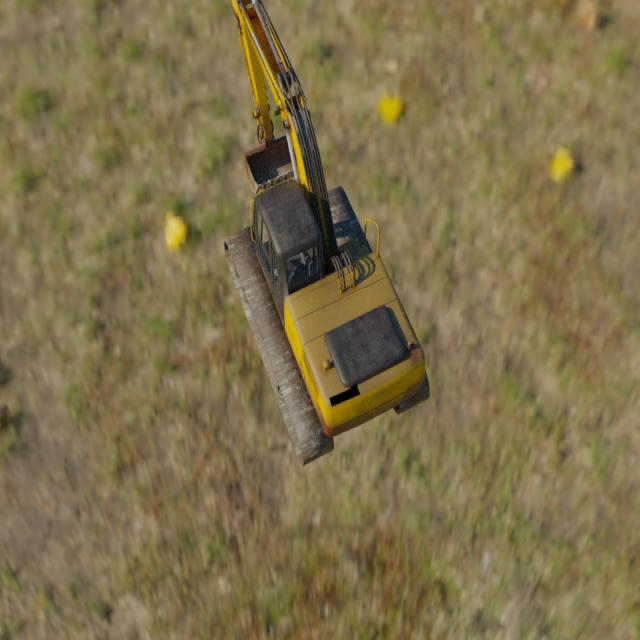excavator: (222, 0, 430, 468)
